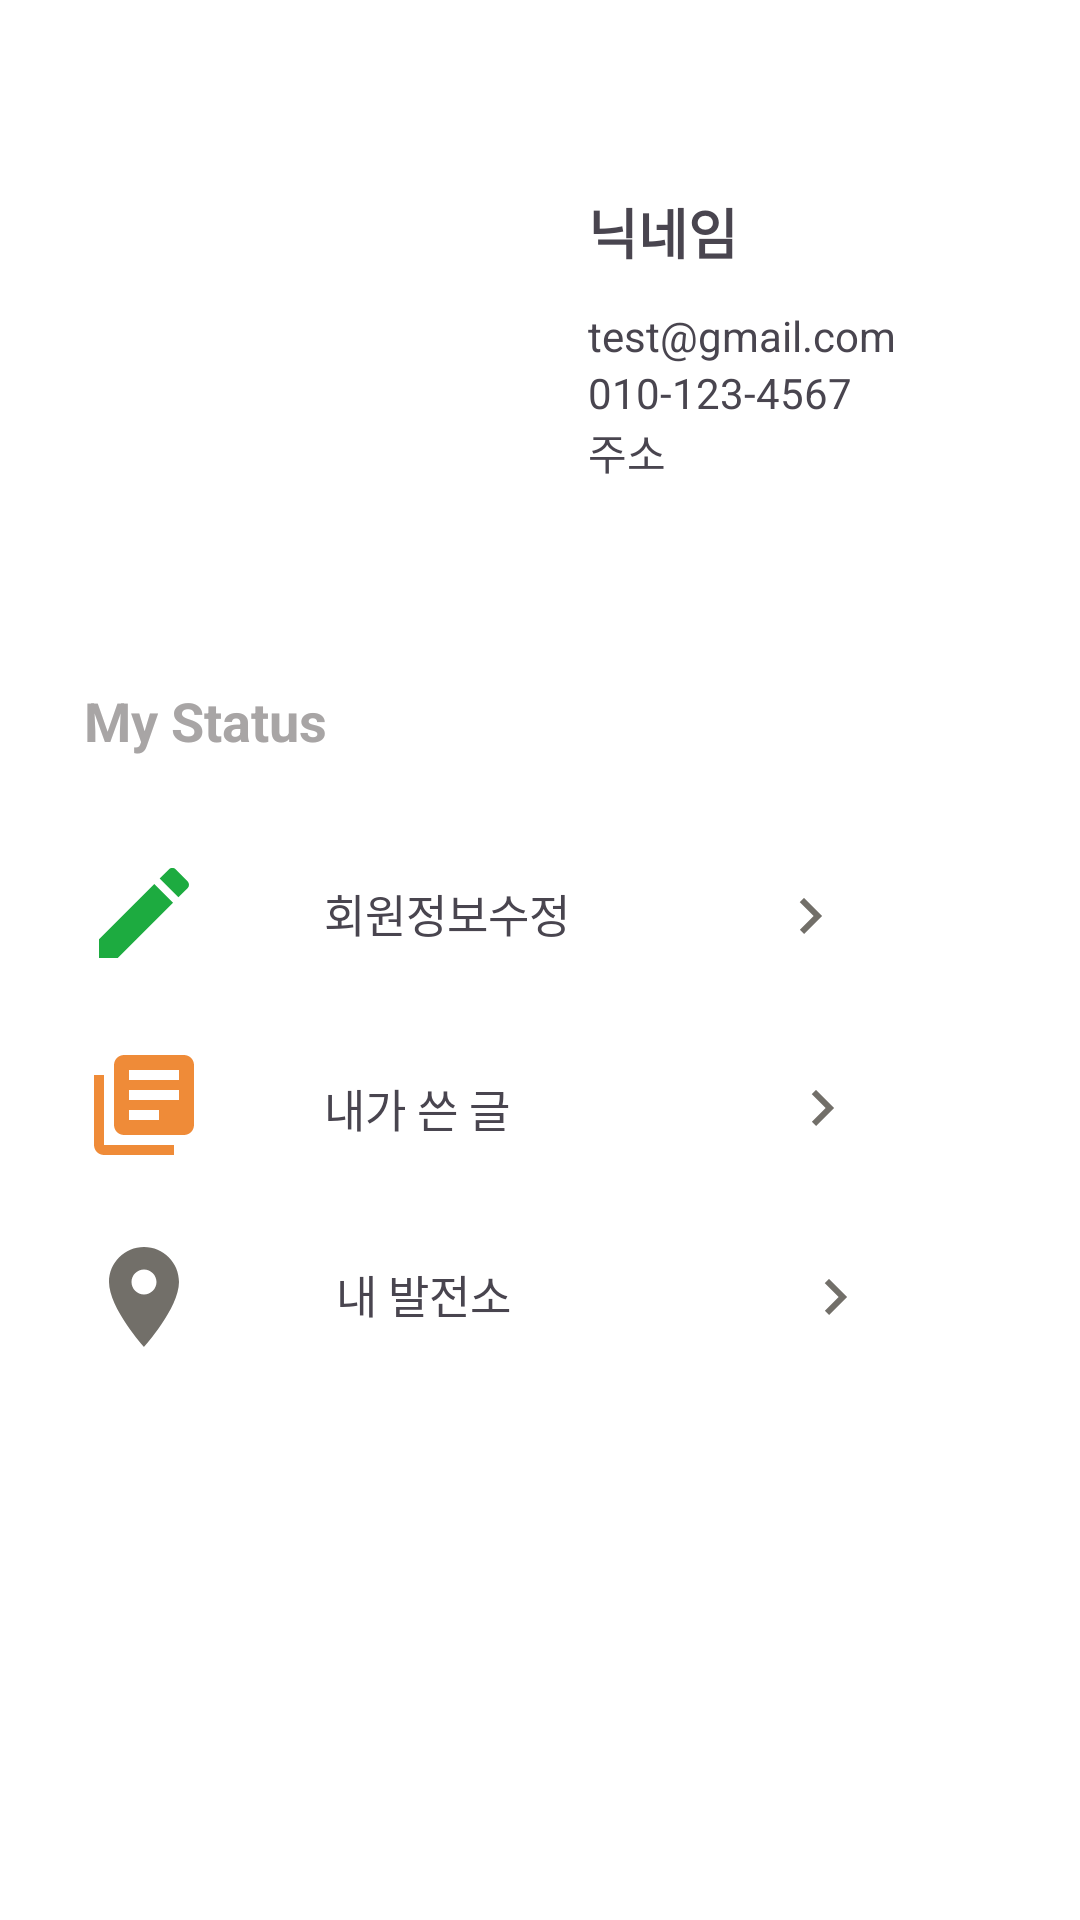

Where to tap for icons on this 1080px×1920px app screen, as (x,y):
create: (144,913)
keyboard arrow right: (811,916), (823,1108), (836,1297)
library books: (144,1105)
room: (144,1297)
